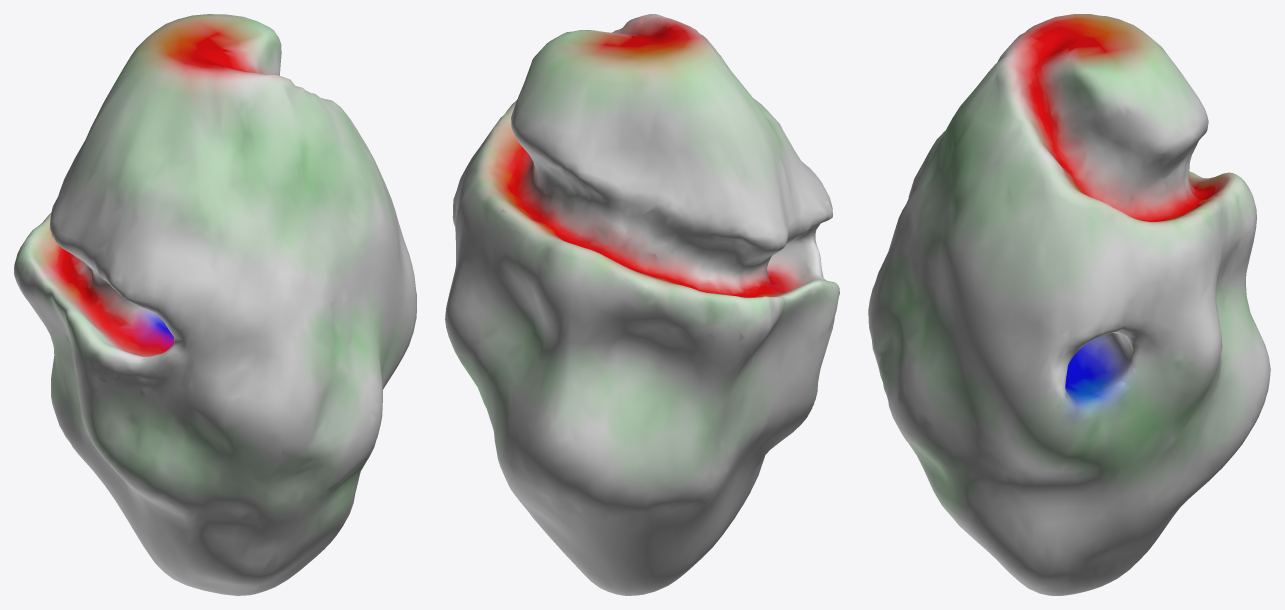
Rendered from Floating Island SpiralCaveJump.fbx.
3 renders of one model, left to right at view 1: azimuth 30°, elevation 25°; view 2: azimuth 150°, elevation 25°; view 3: azimuth 270°, elevation 25°, orthographic. The views are drawn at different scales.
Visible parts, largest first — view 1: Sphere.001; view 2: Sphere.001; view 3: Sphere.001.
Boxes of the visible parts, bbox=[...] form: Sphere.001: bbox=[14, 14, 416, 595]; Sphere.001: bbox=[445, 14, 839, 595]; Sphere.001: bbox=[868, 14, 1270, 595].
Bounding box in the file's own units: 183 × 272 × 183.
